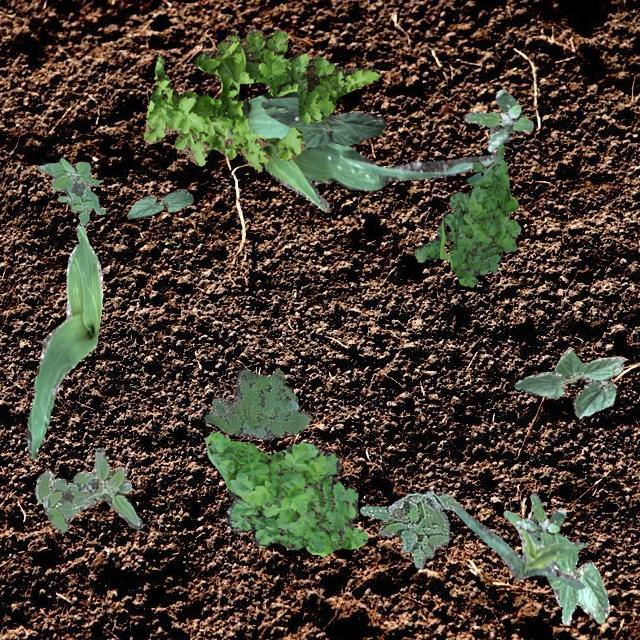crop: (242, 90, 496, 210), (24, 225, 102, 458), (454, 504, 584, 588), (512, 348, 622, 418), (528, 530, 608, 624), (260, 95, 384, 148), (126, 188, 192, 218)
weed: (143, 28, 380, 168), (204, 430, 366, 556), (414, 142, 520, 286), (36, 446, 140, 532), (358, 488, 461, 568), (203, 368, 310, 438), (37, 156, 105, 224), (463, 86, 532, 152), (514, 492, 564, 546)
